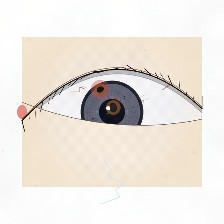foreign_body_visible: (81, 74, 119, 105)
